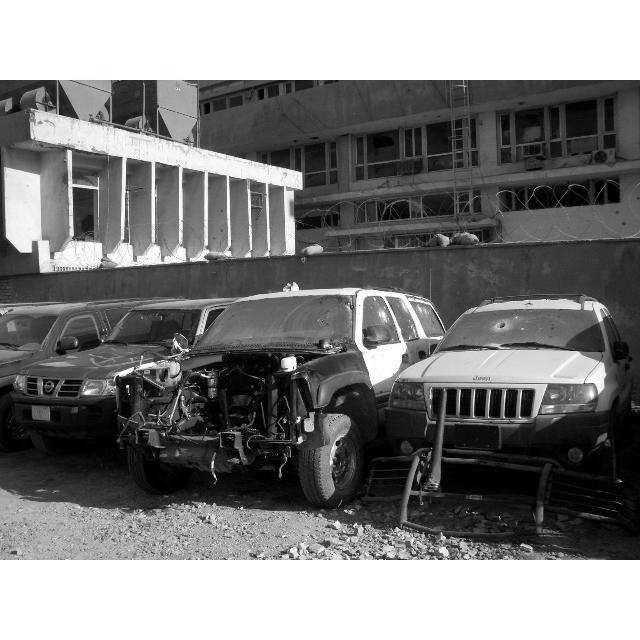front-bumper-dent: (141, 374, 323, 467), (387, 397, 593, 454)
